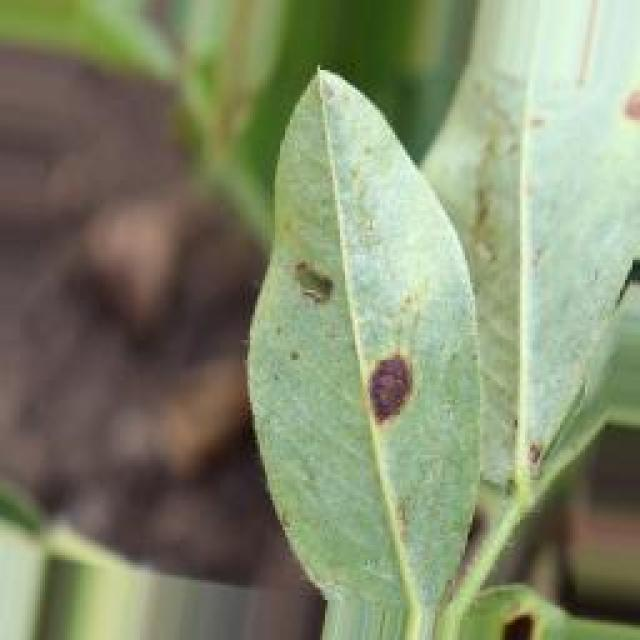Yellowish: (278, 247, 454, 482)
